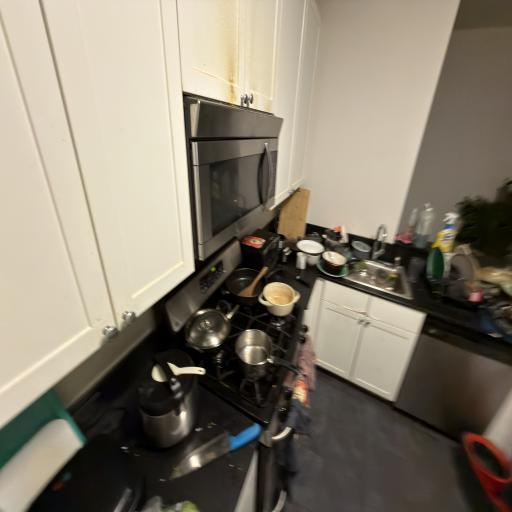Pan: (235, 323, 305, 387), (184, 305, 242, 359), (220, 265, 274, 309), (257, 279, 302, 324), (317, 240, 352, 279)
knife: (152, 428, 286, 484)
